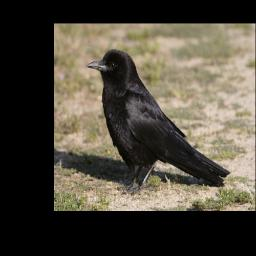Crow: (85, 48, 231, 196)
